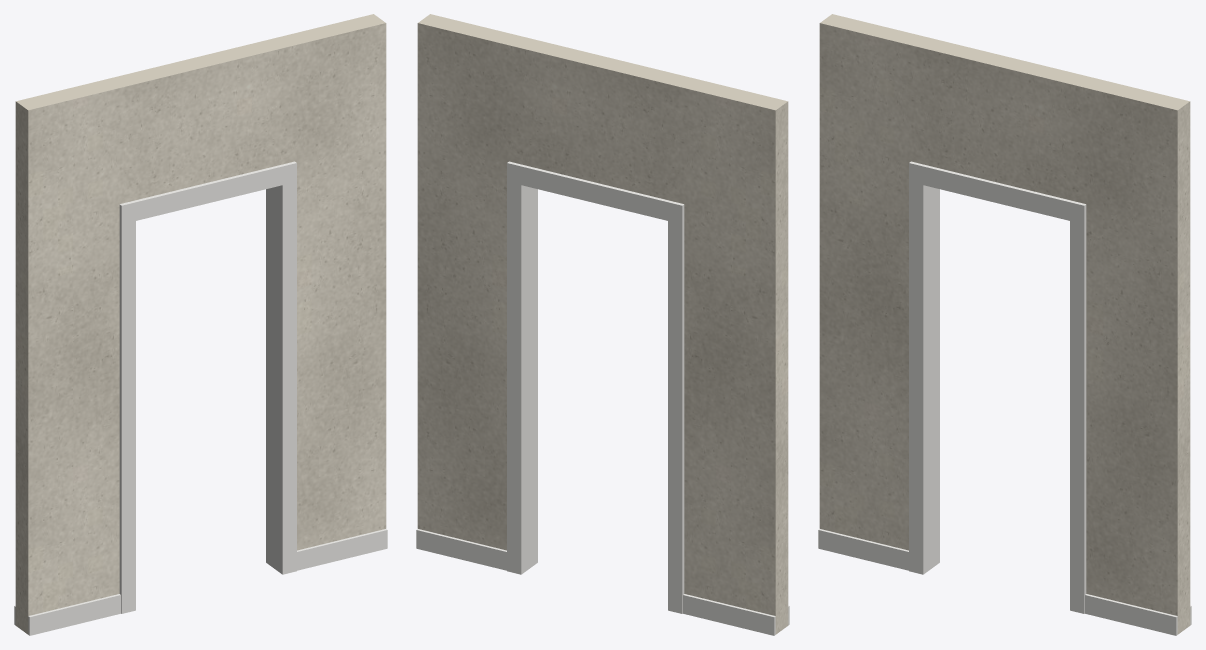
Rendered from interior_wall_doorway.glb.
3 renders of one model, left to right at view 1: azimuth 30°, elevation 25°; view 2: azimuth 150°, elevation 25°; view 3: azimuth 330°, elevation 25°, orthographic.
Parts seen in each view (by area): view 1: interior_wall_doorway_plaster, interior_wall_doorway_frame, interior_wall_doorway_trim; view 2: interior_wall_doorway_plaster, interior_wall_doorway_frame, interior_wall_doorway_trim; view 3: interior_wall_doorway_plaster, interior_wall_doorway_frame, interior_wall_doorway_trim.
Boxes of the visible parts, left/top/right/bottom form: interior_wall_doorway_plaster: left=15, top=14, right=386, bottom=634; interior_wall_doorway_frame: left=119, top=161, right=296, bottom=613; interior_wall_doorway_trim: left=14, top=529, right=387, bottom=635; interior_wall_doorway_plaster: left=417, top=14, right=788, bottom=634; interior_wall_doorway_frame: left=507, top=161, right=684, bottom=613; interior_wall_doorway_trim: left=416, top=529, right=789, bottom=635; interior_wall_doorway_plaster: left=819, top=14, right=1190, bottom=634; interior_wall_doorway_frame: left=909, top=161, right=1086, bottom=613; interior_wall_doorway_trim: left=818, top=529, right=1191, bottom=635.
Size of the model in its own units: 2 by 2.8 by 0.16.
Materials: 3 (1 with a texture image).
